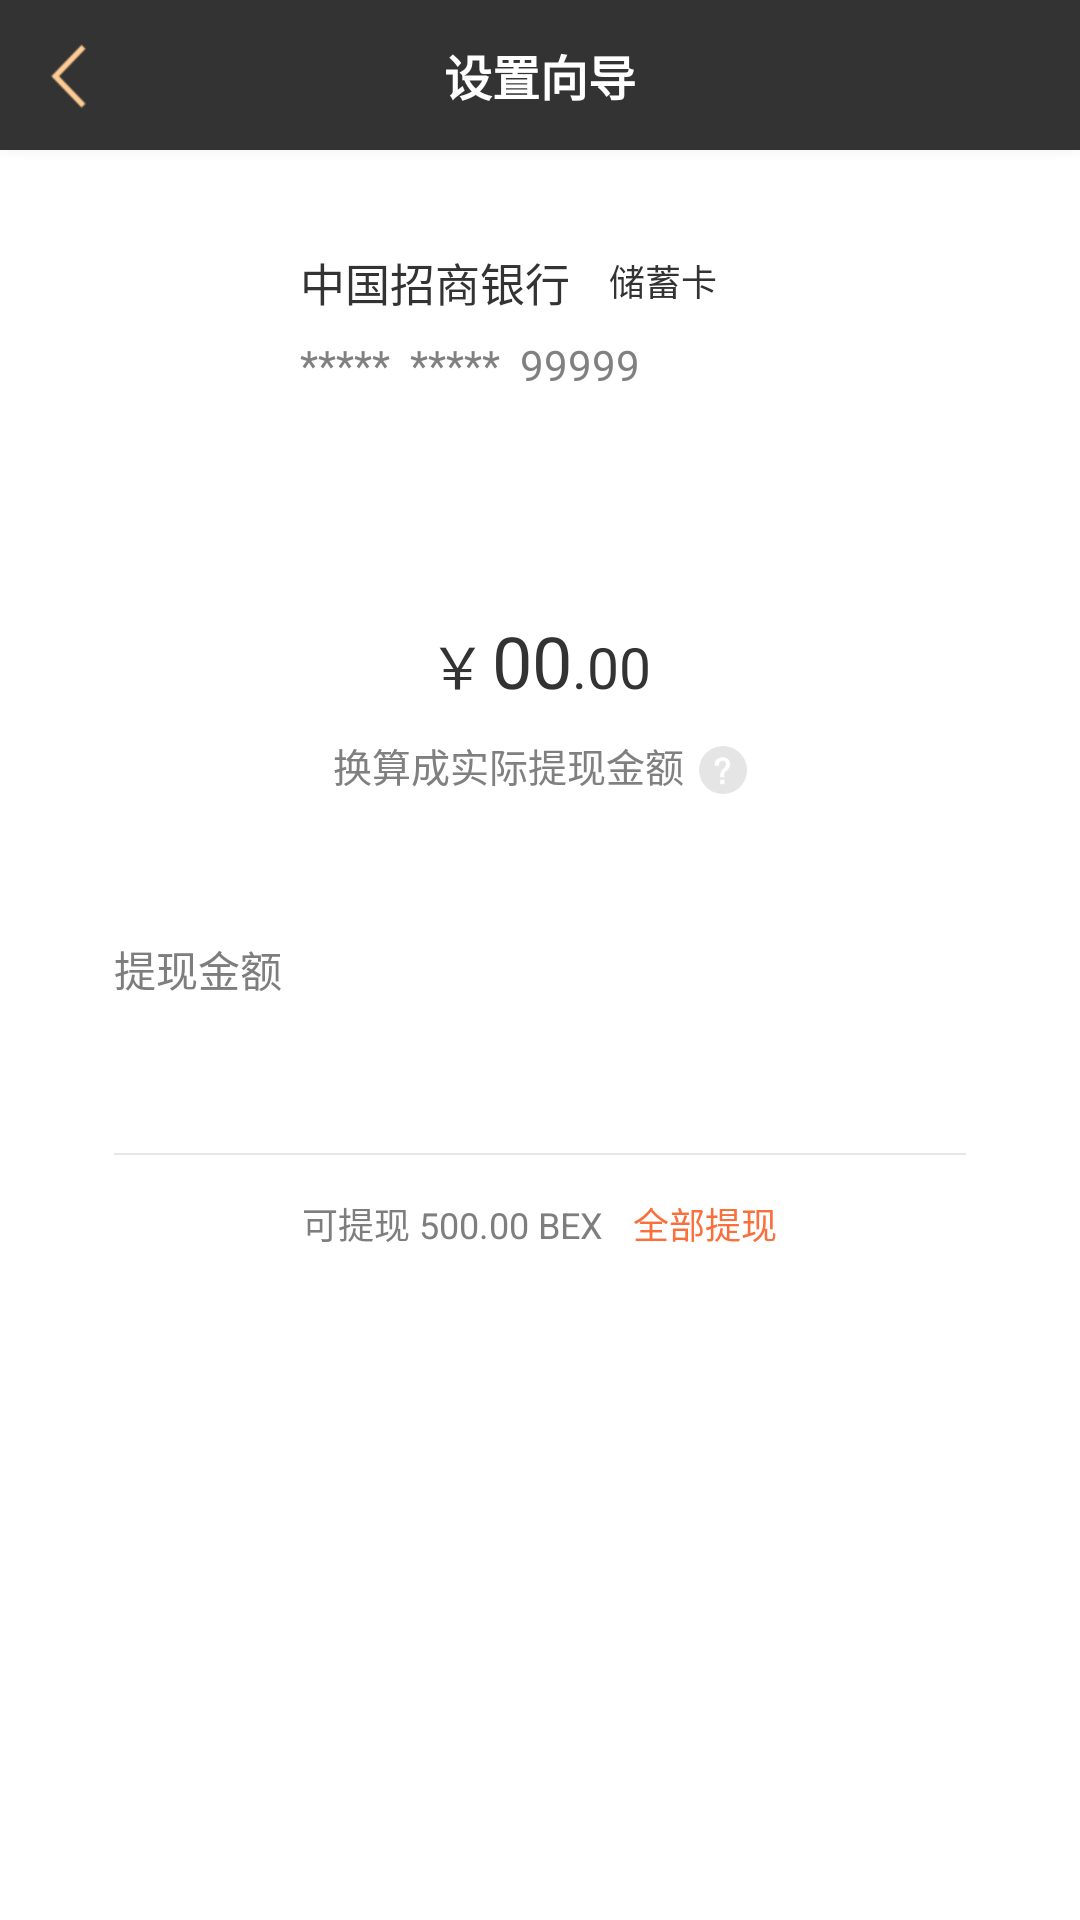

Named icons in this screenshot (1080px x 1920px) and their bounding boxes, [x1=x1, y1=y1, x2=x2, y2=y2]:
left back: [x1=51, y1=45, x2=86, y2=108]
tishi: [x1=699, y1=746, x2=747, y2=794]
